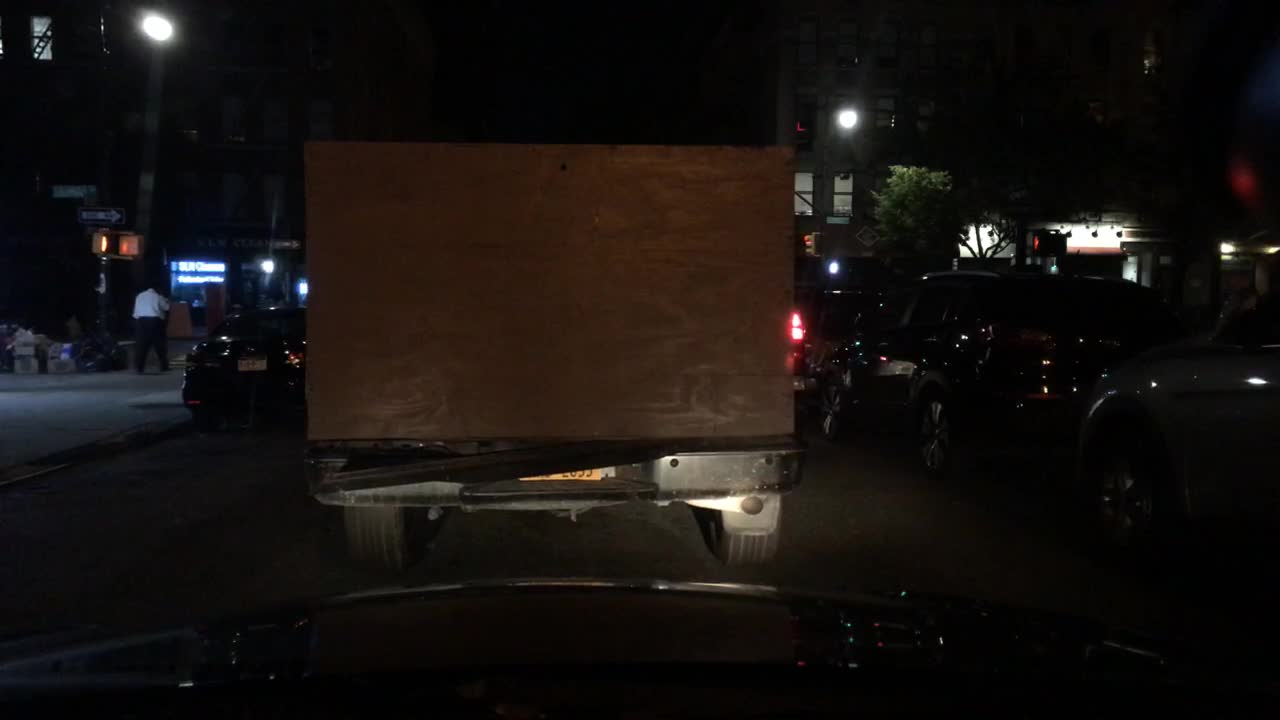car: (816, 268, 1191, 485), (1081, 248, 1278, 581), (182, 305, 309, 426), (796, 288, 895, 396)
person: (129, 278, 173, 373)
traffic light: (794, 102, 816, 150), (1034, 230, 1065, 255), (118, 234, 143, 255), (89, 232, 107, 254), (803, 233, 819, 254), (826, 260, 842, 277), (258, 259, 277, 272)
traffic sign: (79, 208, 123, 227), (53, 185, 97, 199), (274, 239, 298, 248), (826, 217, 852, 224)
truck: (303, 142, 799, 575)
